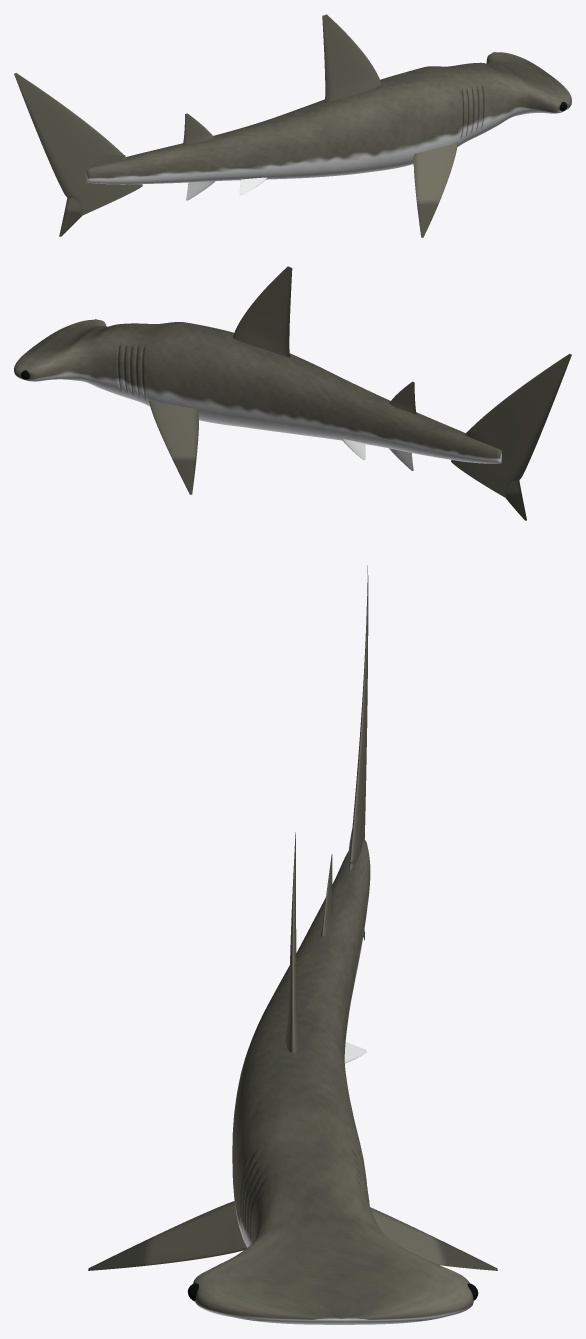
File: scalloped_hammerhead.glb
The picture shows the model from 3 angles, top to bottom: view 1: azimuth 30°, elevation 25°; view 2: azimuth 150°, elevation 25°; view 3: azimuth 270°, elevation 25°; orthographic projection. The views are drawn at different scales.
Parts seen in each view (by area): view 1: ScallopedHammerhead_Body, ScallopedHammerhead_Fins; view 2: ScallopedHammerhead_Body, ScallopedHammerhead_Fins; view 3: ScallopedHammerhead_Body, ScallopedHammerhead_Fins.
Part boxes in pixels (x1,y1,x2,y2): ScallopedHammerhead_Body: [86, 52, 571, 184]; ScallopedHammerhead_Fins: [14, 14, 457, 237]; ScallopedHammerhead_Body: [14, 319, 501, 463]; ScallopedHammerhead_Fins: [149, 266, 571, 520]; ScallopedHammerhead_Body: [193, 839, 473, 1324]; ScallopedHammerhead_Fins: [88, 565, 497, 1270].
Bounding box in the file's own units: 3 × 1.06 × 1.
3 materials, 1 textured.
